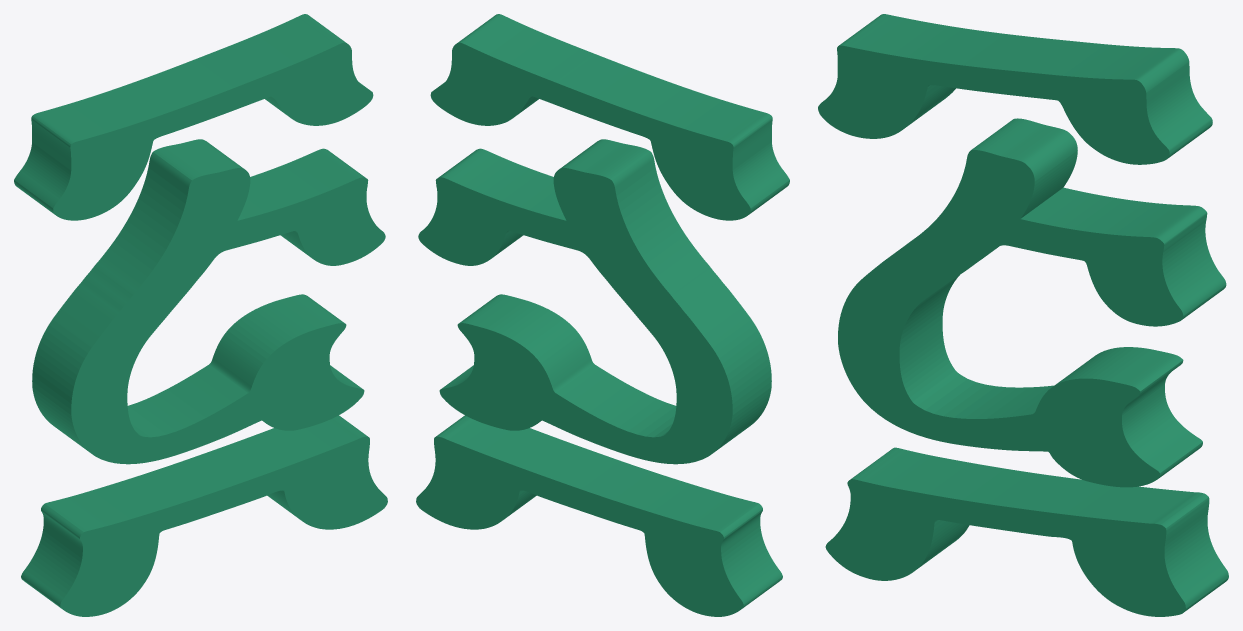
File: Spinning Phive.glb
The picture shows the model from 3 angles, left to right: view 1: azimuth 30°, elevation 25°; view 2: azimuth 150°, elevation 25°; view 3: azimuth 330°, elevation 25°; orthographic projection. The views are drawn at different scales.
Visible parts, largest first — view 1: Curve.001; view 2: Curve.001; view 3: Curve.001.
Boxes of the visible parts, x1,y1,x2,y2 form: Curve.001: [14, 14, 387, 616]; Curve.001: [416, 14, 789, 616]; Curve.001: [818, 14, 1228, 616].
Size of the model in its own units: 0.8125 by 1.19 by 0.1646.
